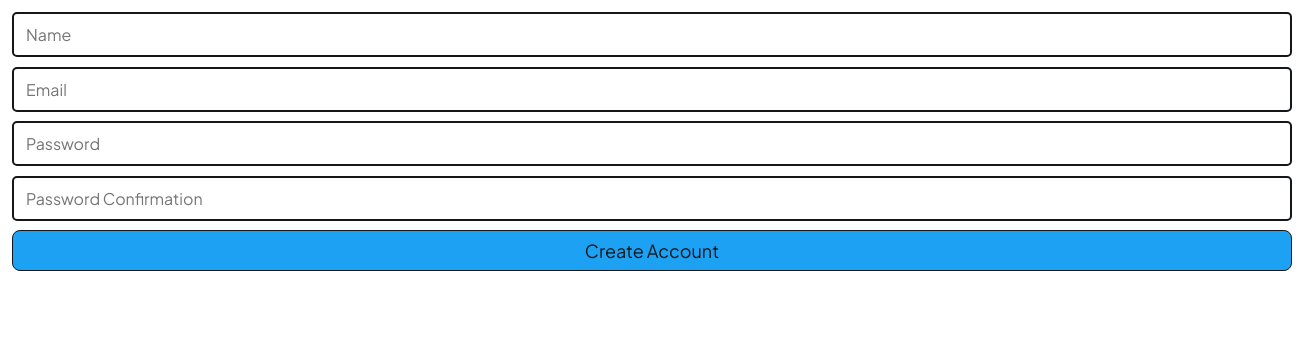
Test: FormRegister Component › should displays validation errors when fields are empty
Click the button "Create Account": (652, 251) [12,230,1292,271]
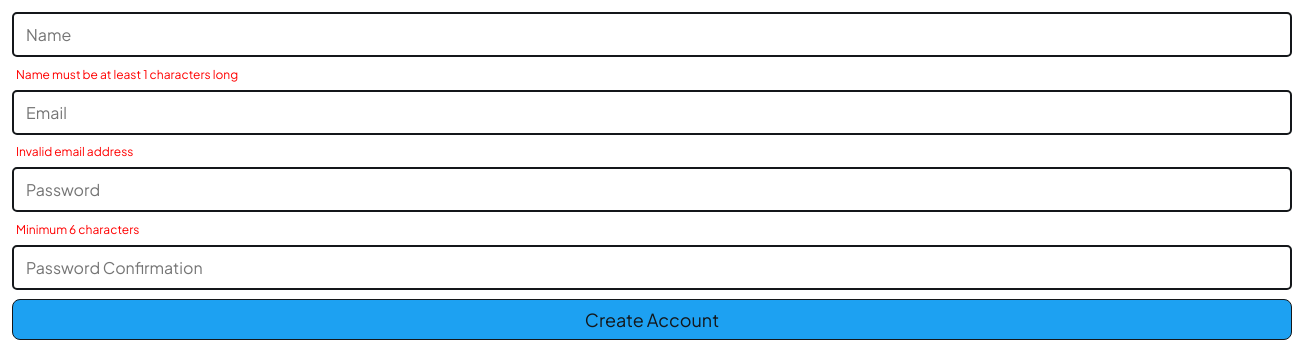
Now the text "Name must be at least 1 characters long" is shown, box [16,67,238,82]
Now the text "Invalid email address" is shown, box [16,144,133,159]
Now the text "Minimum 6 characters" is shown, box [16,222,139,237]
